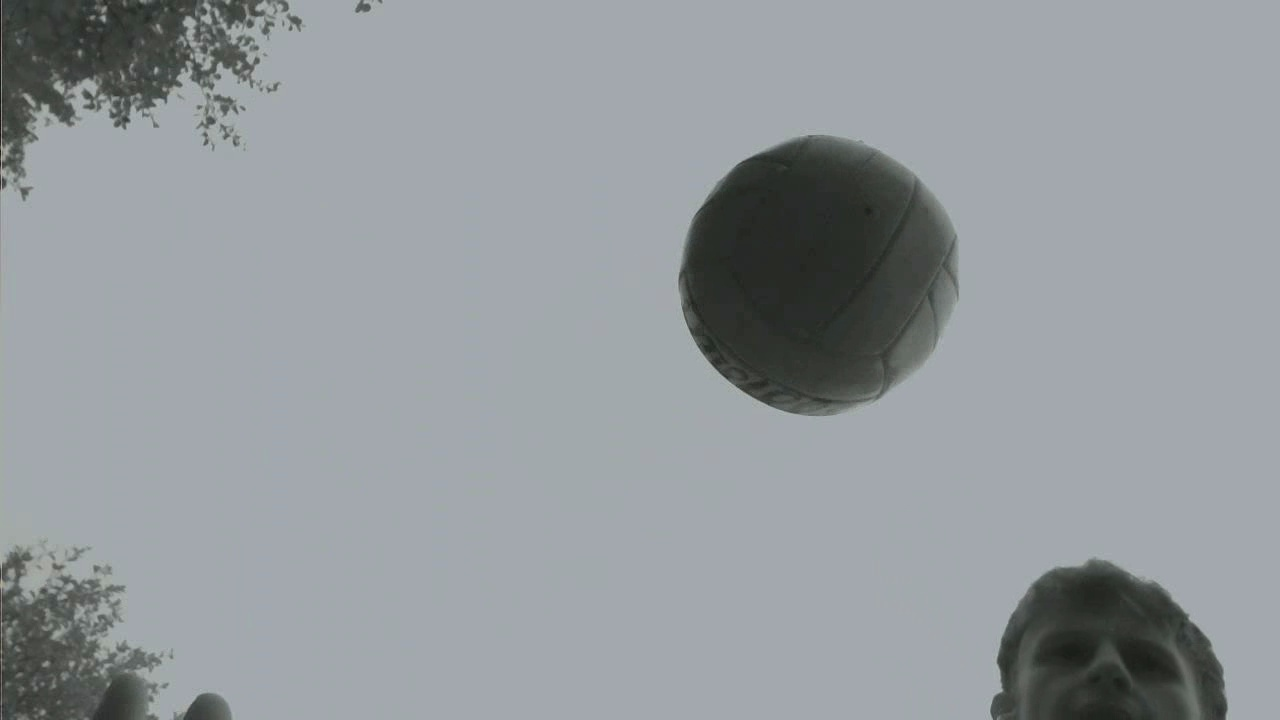Football-Spotter: (679, 135, 957, 413)
